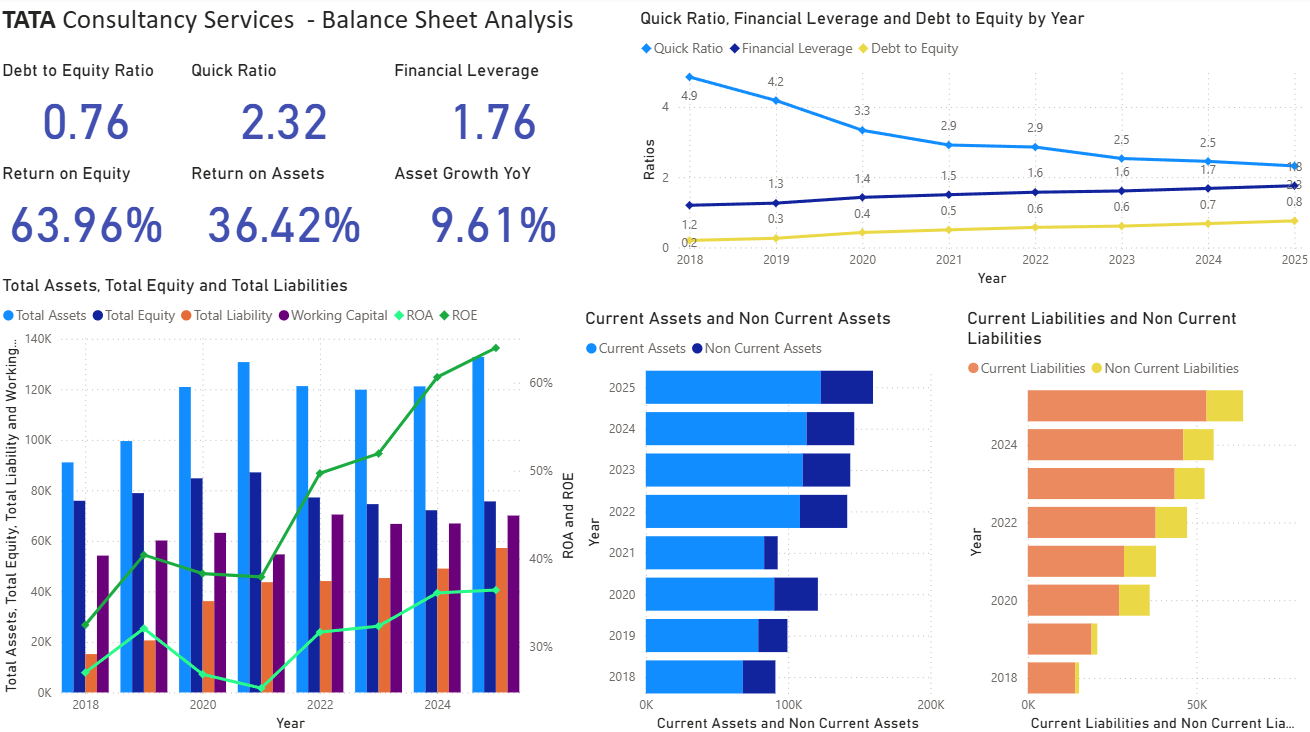

What the dashboard file says about the page in this screenshot:
{"tool":"powerbi","page":{"name":"Balance Sheet Analysis","canvas":[1280,720],"ordinal":3},"visuals":[{"type":"textbox","box":[0,0,706.1,49.6],"z":0},{"type":"kpi","title":"Debt to Equity Ratio","fields":{"Indicator":["Sum(BS.Debt to Equity)"],"TrendLine":["BS.Year"]},"box":[0,61.3,173.1,100.2],"z":1000},{"type":"kpi","title":"Return on Equity","fields":{"Indicator":["Sum(BS.ROE)"],"TrendLine":["BS.Year"]},"box":[0,161.5,173.1,100.2],"z":2000},{"type":"kpi","title":"Return on Assets","fields":{"Indicator":["Sum(BS.ROA)"],"TrendLine":["BS.Year"]},"box":[183.8,161.5,190.6,100.2],"z":3000},{"type":"lineClusteredColumnComboChart","title":"Total Assets, Total Equity and Total Liabilities","fields":{"Category":["BS.Year"],"Y":["Sum(BS.Total Assets)","Sum(BS.Total Equity)","Sum(BS.Total Liability)","Sum(BS.Working Capital)"],"Y2":["Sum(BS.ROA)","Sum(BS.ROE)"]},"box":[0,270.4,567.1,449.4],"z":4000},{"type":"kpi","title":"Quick Ratio ","fields":{"Indicator":["Sum(BS.Quick Ratio)"],"TrendLine":["BS.Year"]},"box":[183.8,61.3,190.6,100.2],"z":5000},{"type":"kpi","title":"Financial Leverage","fields":{"Indicator":["Sum(BS.Financial Leverage)"],"TrendLine":["BS.Year"]},"box":[381.3,61.3,202.3,100.2],"z":6000},{"type":"kpi","title":"Asset Growth YoY ","fields":{"Indicator":["Sum(BS.Asset Growth YoY)"],"TrendLine":["BS.Year"]},"box":[381.3,161.5,202.3,100.2],"z":7000},{"type":"barChart","title":"Current Assets and Non Current Assets","fields":{"Category":["BS.Year"],"Y":["Sum(BS.Current Assets)","Sum(BS.Non Current Assets)"]},"box":[567.1,302.5,359.9,417.3],"z":8000},{"type":"barChart","title":"Current Liabilities and Non Current Liabilities","fields":{"Y":["Sum(BS.Current Liability)","Sum(BS.Non Current Liability)"],"Category":["BS.Year"]},"box":[938.6,302.5,341.4,417.3],"z":9000},{"type":"lineChart","fields":{"Y":["Sum(BS.Quick Ratio)","Sum(BS.Financial Leverage)","Sum(BS.Debt to Equity)"],"Category":["BS.Year"]},"box":[620.5,10.7,659.5,276.2],"z":10000}]}

Visuals, with their boxes in screenshot pixels (x1, y1, x2, y2), scaled from the page's 1280x720 canvas onto the 1310x732 screenshot:
textbox: [0,0,723,50]
"Debt to Equity Ratio" kpi: [0,62,177,164]
"Return on Equity" kpi: [0,164,177,266]
"Return on Assets" kpi: [188,164,383,266]
"Total Assets, Total Equity and Total Liabilities" lineClusteredColumnComboChart: [0,275,580,731]
"Quick Ratio " kpi: [188,62,383,164]
"Financial Leverage" kpi: [390,62,597,164]
"Asset Growth YoY " kpi: [390,164,597,266]
"Current Assets and Non Current Assets" barChart: [580,308,949,731]
"Current Liabilities and Non Current Liabilities" barChart: [961,308,1309,731]
lineChart - Sum(BS.Quick Ratio) x Sum(BS.Financial Leverage): [635,11,1309,292]
